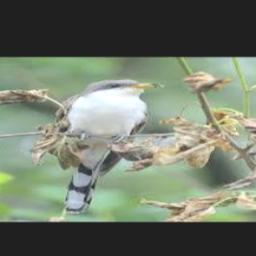Cuckoo: (57, 78, 165, 214)
